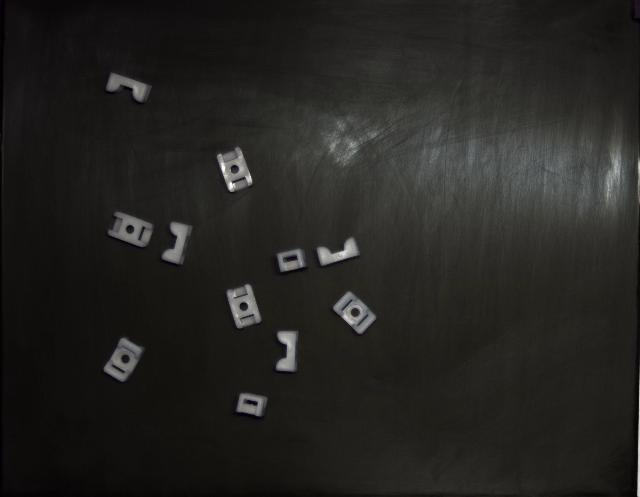first_side: (332, 291, 376, 335), (104, 338, 144, 382)
fourth_side: (236, 394, 268, 418)
second_side: (108, 212, 154, 248), (216, 148, 252, 192), (226, 285, 261, 329)
third_side: (106, 72, 151, 104), (161, 222, 192, 265), (316, 238, 360, 266), (276, 331, 298, 372)
